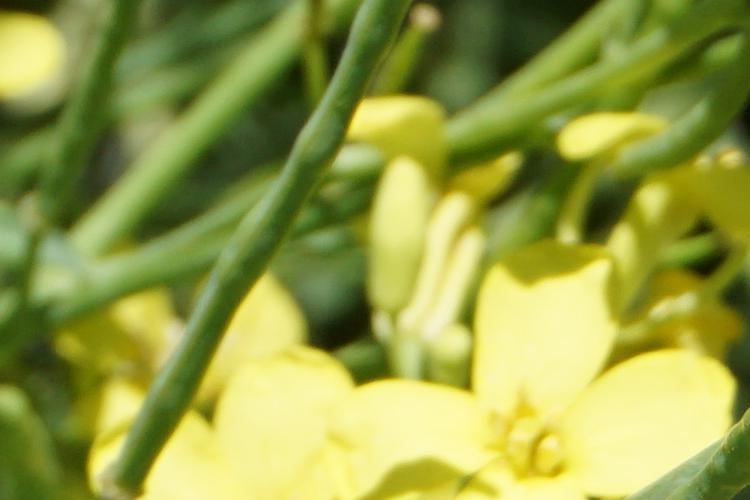yellow: (196, 240, 730, 497)
